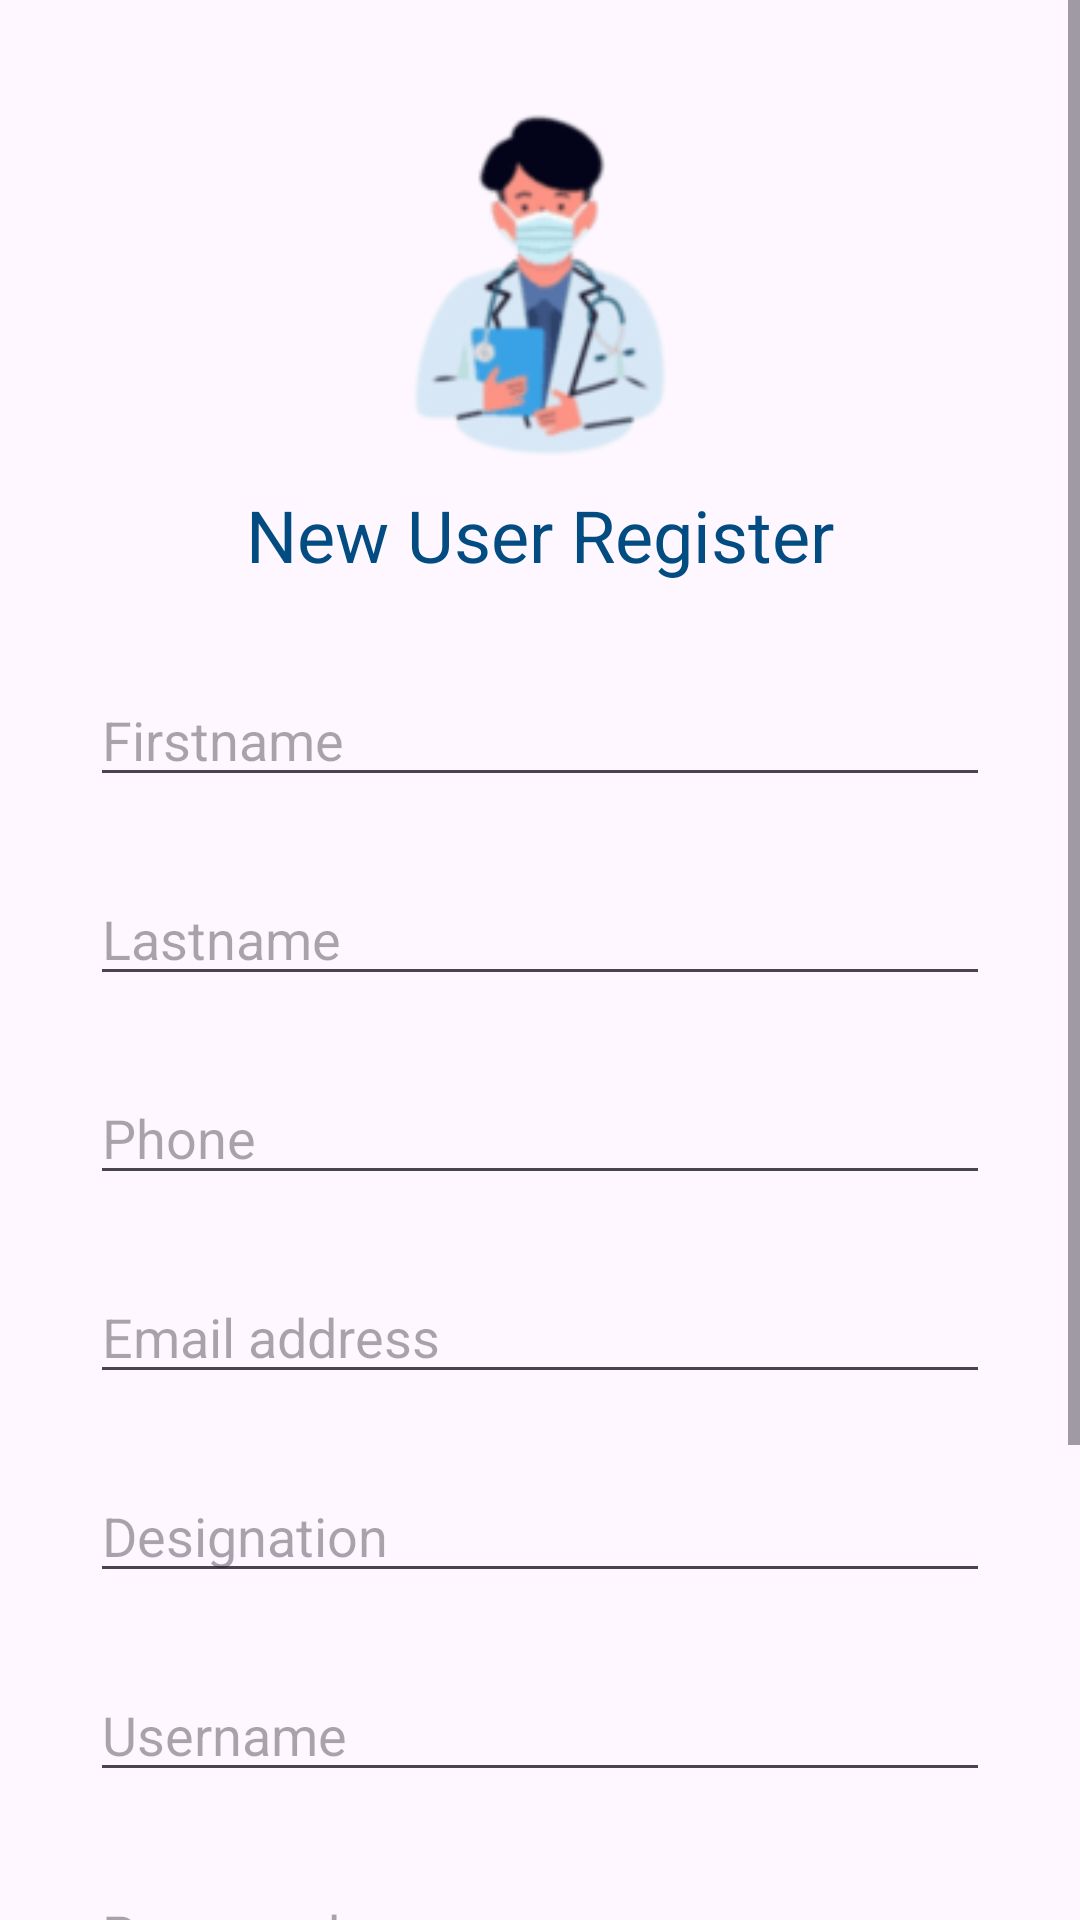

Point at icon controls on the screen. Image size 1080x1920, points as [x,y].
doctor: [540,284]
